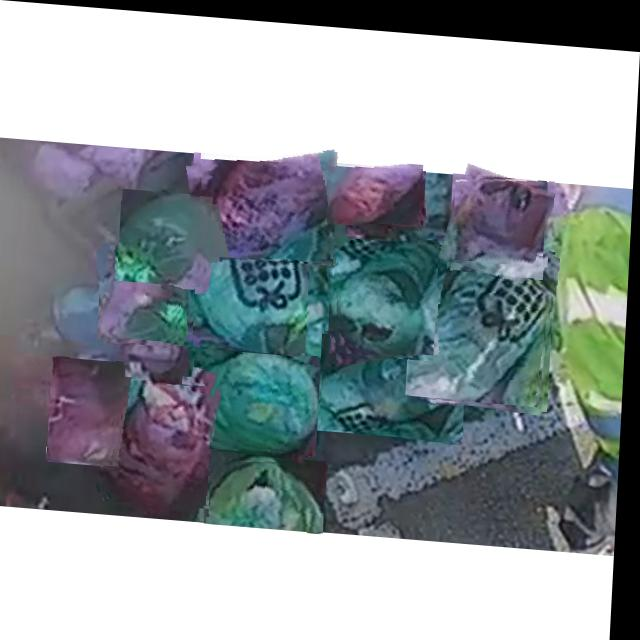general_trashbag: (409, 242, 555, 393), (197, 230, 311, 352), (186, 349, 322, 447), (324, 338, 469, 425), (338, 233, 440, 351), (207, 456, 328, 527), (121, 191, 211, 281)
other_trashbag: (205, 146, 339, 255), (107, 379, 216, 501), (455, 170, 555, 253), (106, 244, 185, 338), (52, 359, 122, 462), (328, 158, 424, 219)
